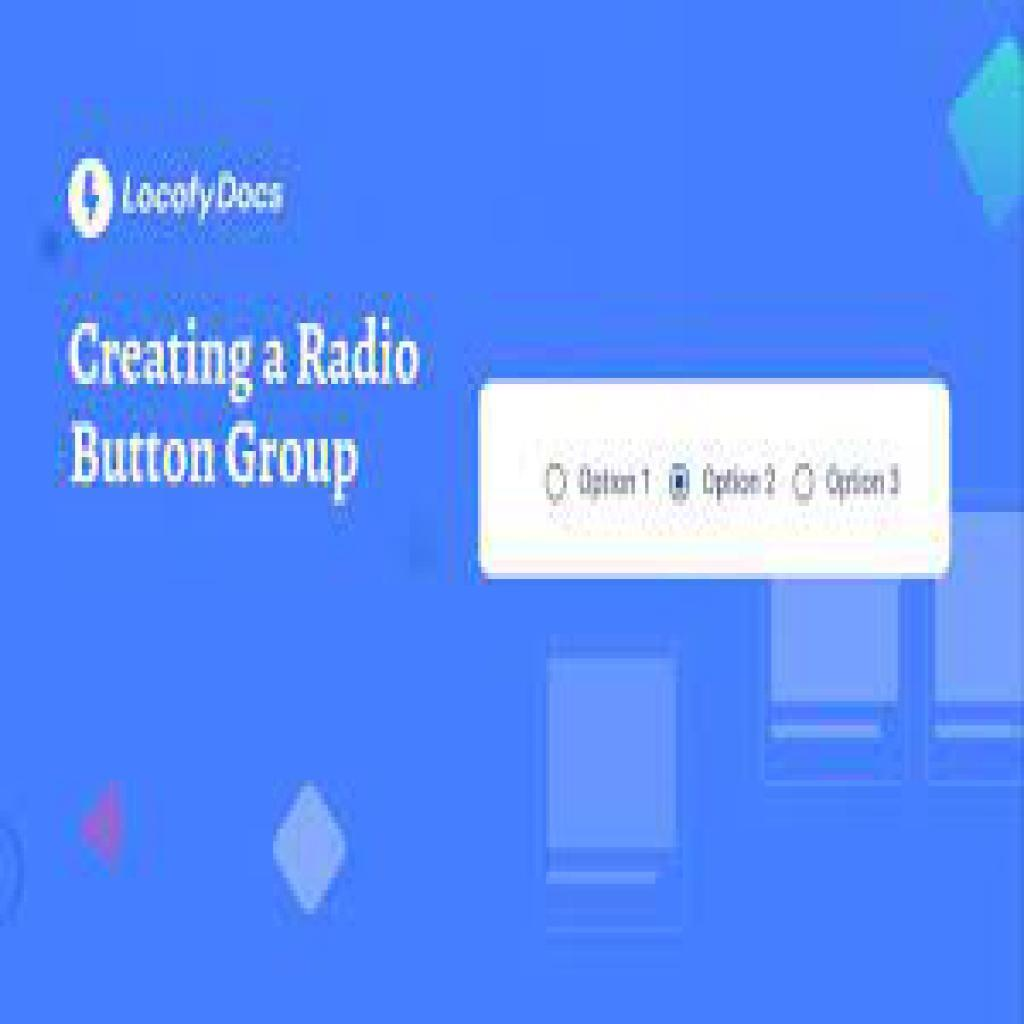radio: (543, 458, 570, 511), (668, 460, 694, 511), (793, 462, 818, 512)
